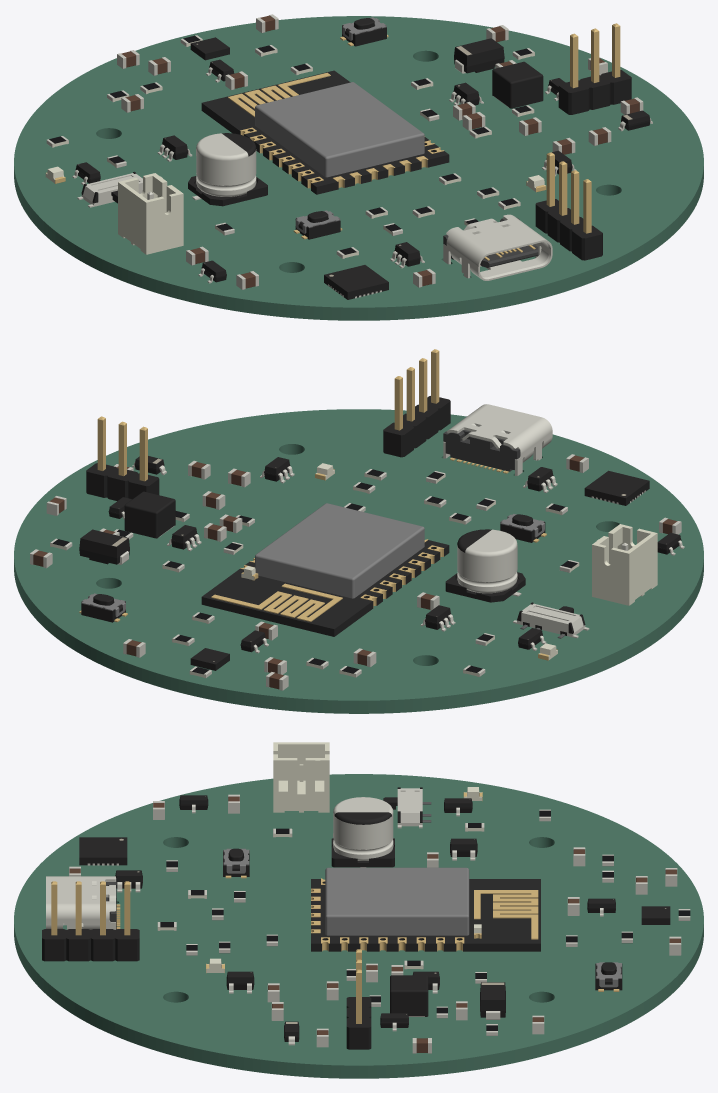
File: air-quality-pcb-v4.glb
3 renders of one model, top to bottom at view 1: azimuth 30°, elevation 25°; view 2: azimuth 150°, elevation 25°; view 3: azimuth 270°, elevation 25°, orthographic.
Parts seen in each view (by area): view 1: =>[0:1:1:46], =>[0:1:1:33], =>[0:1:1:7], =>[0:1:1:37], =>[0:1:1:35], =>[0:1:1:31], =>[0:1:1:25], =>[0:1:1:13] (×2), =>[0:1:1:39], =>[0:1:1:23], =>[0:1:1:9], =>[0:1:1:27] (×2) (+4 smaller); view 2: =>[0:1:1:46], =>[0:1:1:33], =>[0:1:1:7], =>[0:1:1:37], =>[0:1:1:35], =>[0:1:1:31], =>[0:1:1:25], =>[0:1:1:13] (×2), =>[0:1:1:39], =>[0:1:1:21], =>[0:1:1:23], =>[0:1:1:9] (+3 smaller); view 3: =>[0:1:1:46], =>[0:1:1:33], =>[0:1:1:31], =>[0:1:1:35], =>[0:1:1:37], =>[0:1:1:7], =>[0:1:1:25], =>[0:1:1:13] (×2), =>[0:1:1:39], =>[0:1:1:23], =>[0:1:1:21], =>[0:1:1:19] (×2) (+3 smaller).
Boxes of the visible parts, box(x1,y1,x2,y2) form: =>[0:1:1:46]: box(14, 16, 703, 320); =>[0:1:1:33]: box(201, 70, 449, 194); =>[0:1:1:7]: box(443, 214, 552, 280); =>[0:1:1:37]: box(118, 173, 183, 254); =>[0:1:1:35]: box(188, 133, 267, 206); =>[0:1:1:31]: box(535, 152, 602, 260); =>[0:1:1:25]: box(558, 23, 631, 114); =>[0:1:1:13] (×2): box(293, 17, 388, 239); =>[0:1:1:39]: box(492, 61, 543, 108); =>[0:1:1:23]: box(324, 265, 388, 299); =>[0:1:1:9]: box(454, 38, 504, 73); =>[0:1:1:27] (×2): box(390, 82, 483, 268); =>[0:1:1:46]: box(14, 409, 703, 713); =>[0:1:1:33]: box(201, 503, 449, 636); =>[0:1:1:7]: box(443, 404, 552, 475); =>[0:1:1:37]: box(592, 524, 657, 605); =>[0:1:1:35]: box(445, 529, 525, 602); =>[0:1:1:31]: box(383, 349, 450, 457); =>[0:1:1:25]: box(86, 416, 159, 500); =>[0:1:1:13] (×2): box(79, 514, 546, 622); =>[0:1:1:39]: box(124, 491, 175, 538); =>[0:1:1:21]: box(513, 602, 589, 638); =>[0:1:1:23]: box(584, 470, 649, 505); =>[0:1:1:9]: box(79, 529, 129, 564); =>[0:1:1:46]: box(14, 774, 703, 1078); =>[0:1:1:33]: box(311, 867, 540, 951); =>[0:1:1:31]: box(42, 881, 139, 961); =>[0:1:1:35]: box(331, 797, 394, 867); =>[0:1:1:37]: box(273, 742, 329, 812); =>[0:1:1:7]: box(46, 876, 120, 929); =>[0:1:1:25]: box(346, 949, 371, 1049); =>[0:1:1:13] (×2): box(223, 848, 622, 991); =>[0:1:1:39]: box(390, 975, 428, 1016); =>[0:1:1:23]: box(79, 837, 127, 865); =>[0:1:1:21]: box(383, 787, 431, 828); =>[0:1:1:19] (×2): box(226, 838, 477, 993).
Size of the model in its own units: 0.072 by 0.0119 by 0.072.
